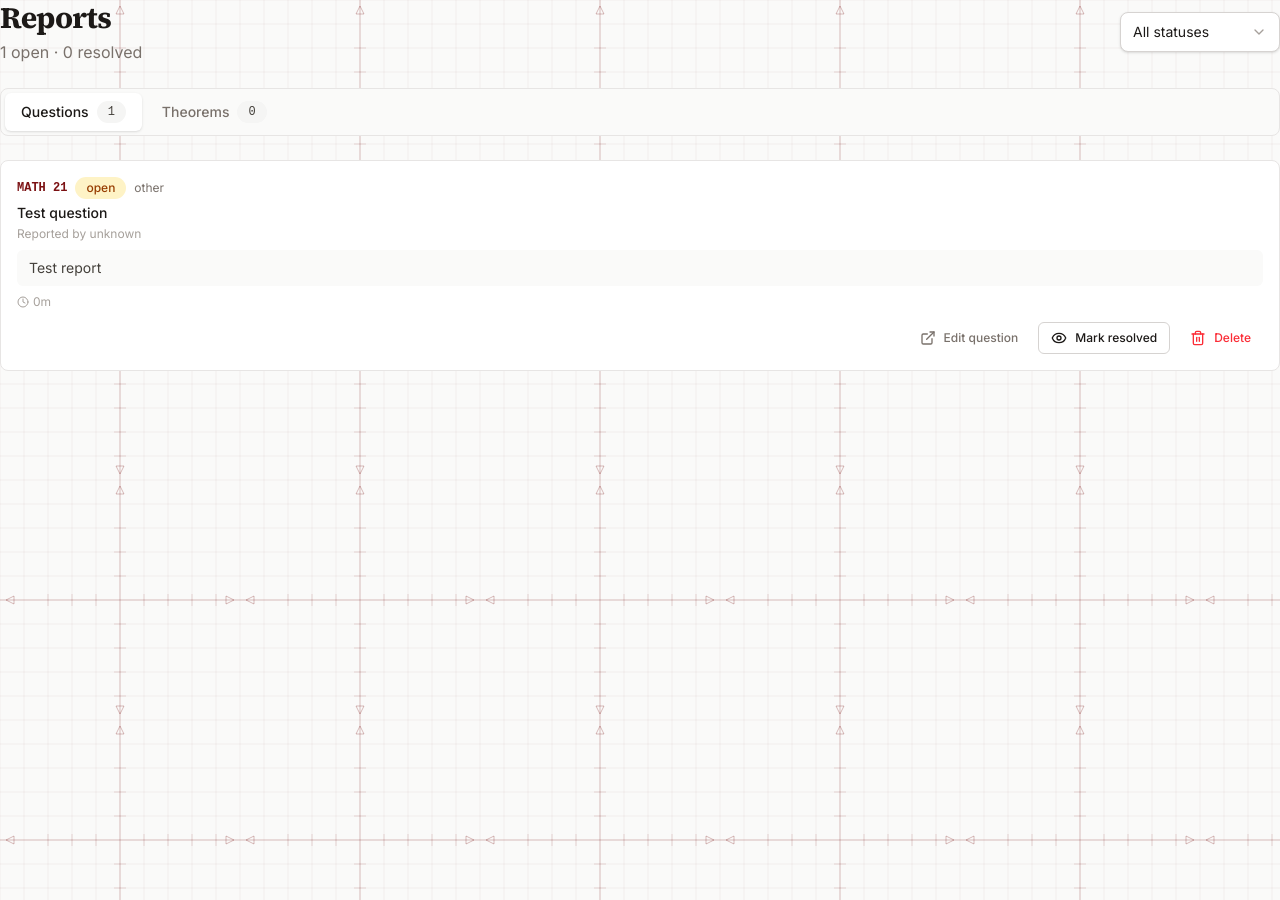
Test case: returns focus on cancellation and updates the inbox after confirmed deletion
Click the button with aria-label "Delete report" at (1221, 338), box [1178,322,1263,354]
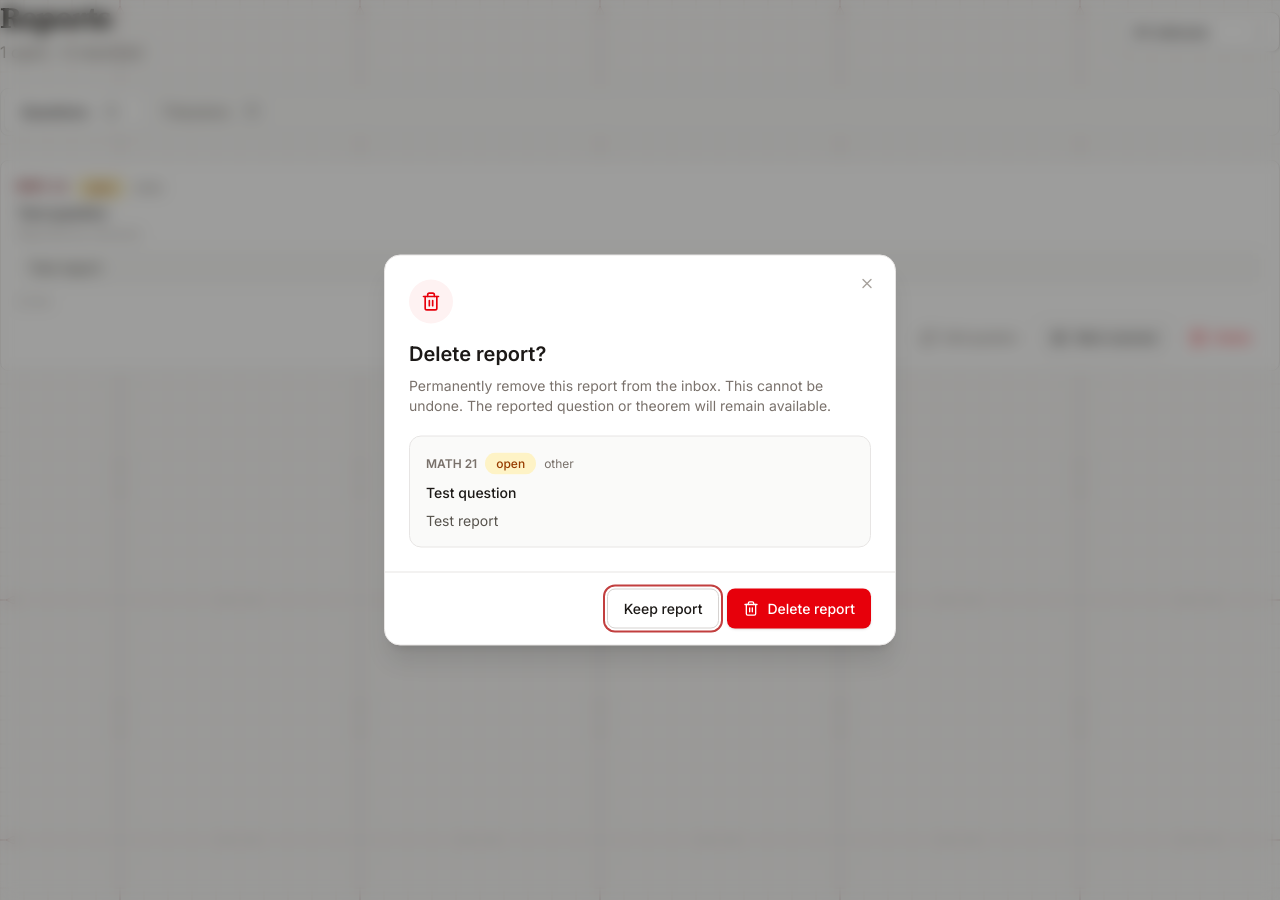
Click the button "Keep report" at (663, 608), box [607,588,719,628]
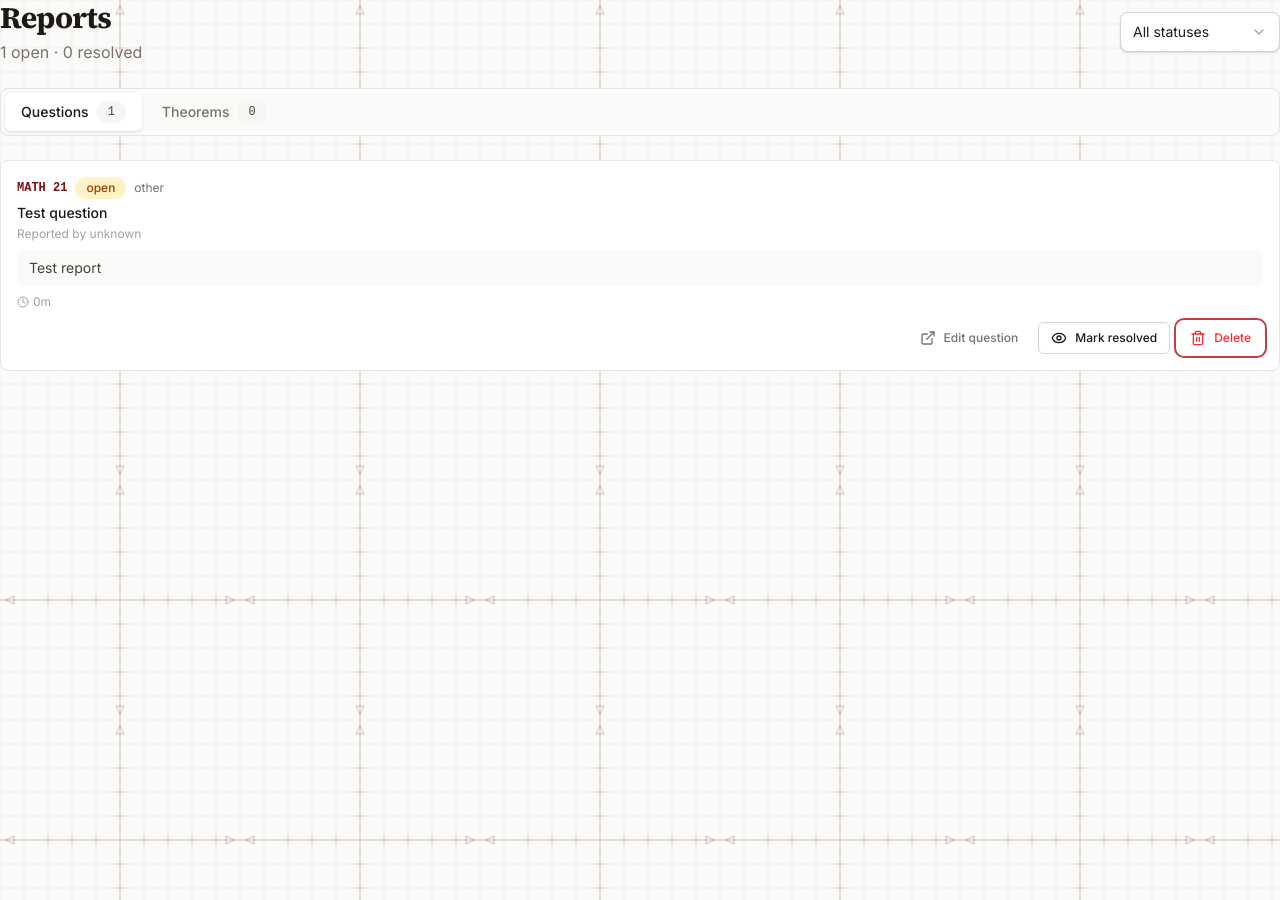
Click the button with aria-label "Delete report" at (1221, 338), box [1178,322,1263,354]
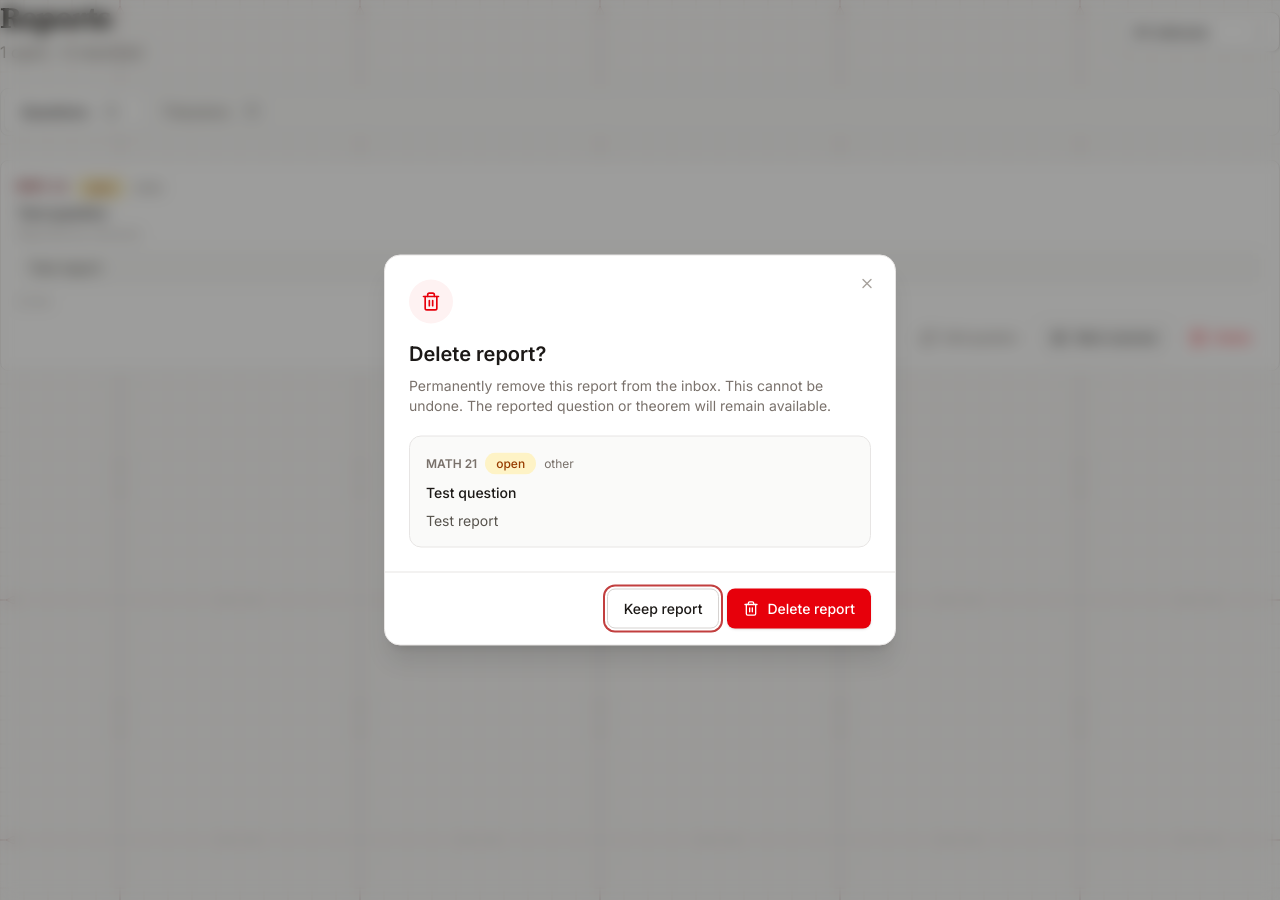
Click the button "Delete report" at (799, 608), box [727,588,871,628]
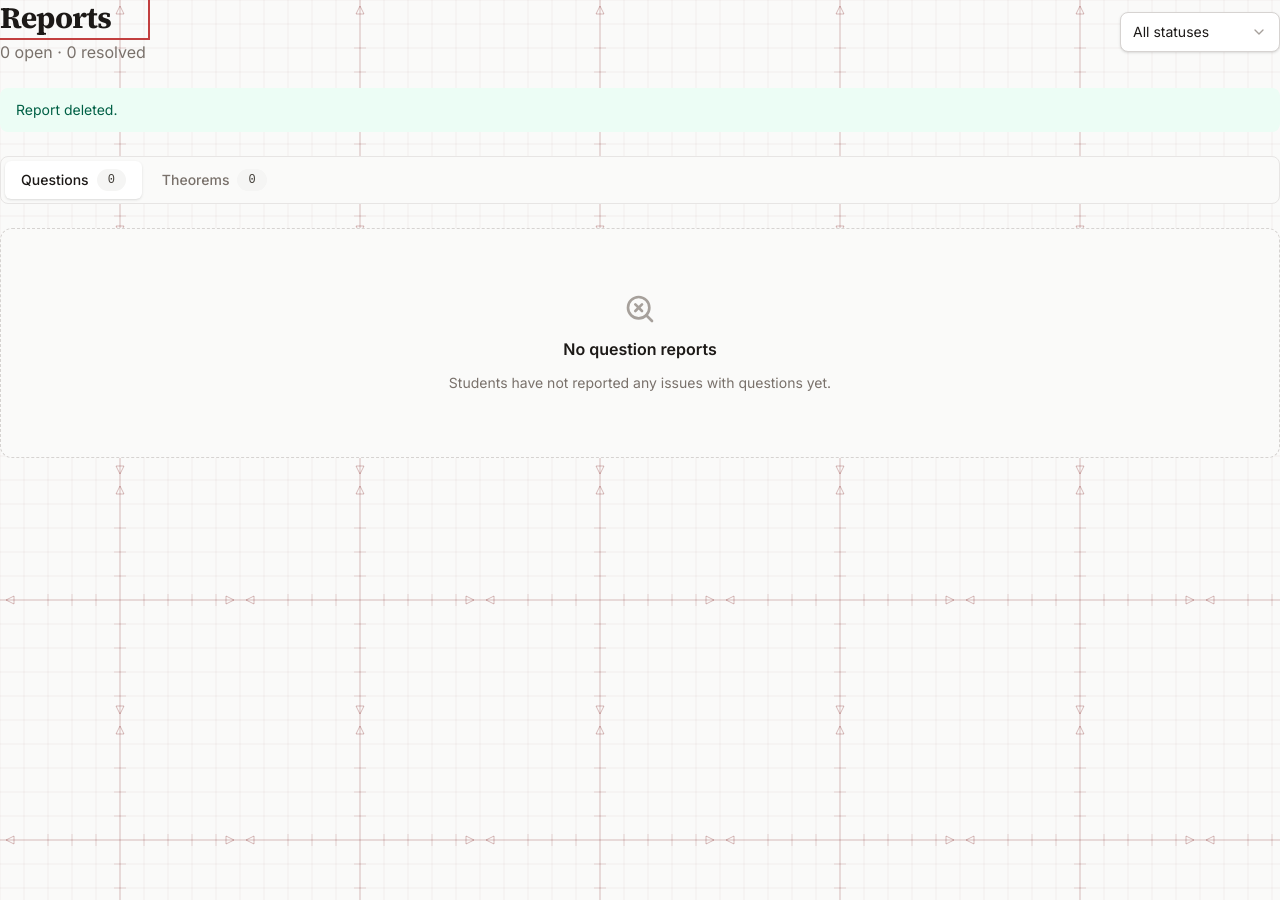
Expected: the heading "No question reports" is shown, [563,337,717,361]
Expected: the message reads "Report deleted.", [16,101,118,118]
Expected: the text "0 open · 0 resolved" is shown, [0,40,146,64]
